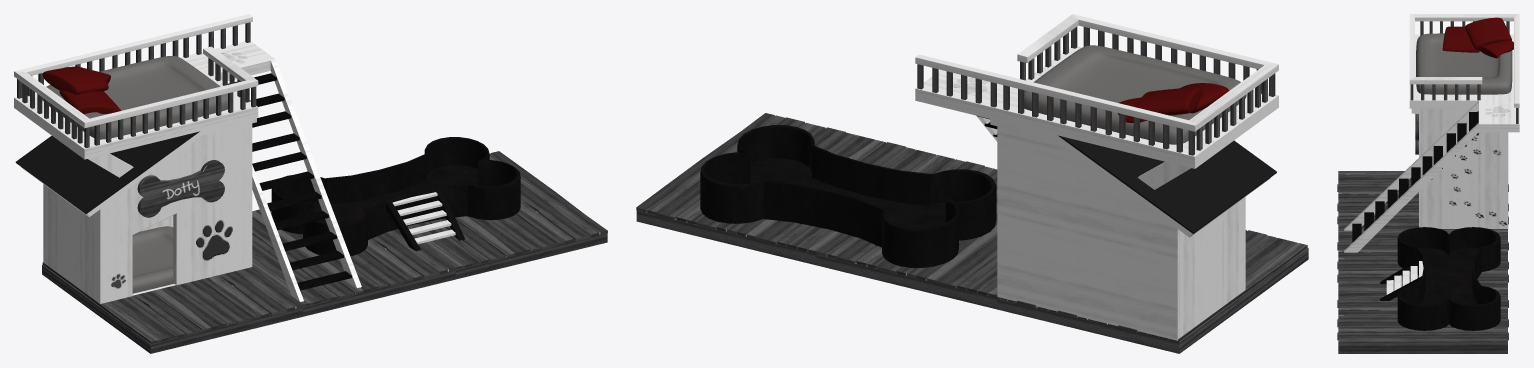
File: producto3.glb
The picture shows the model from 3 angles, left to right: view 1: azimuth 30°, elevation 25°; view 2: azimuth 150°, elevation 25°; view 3: azimuth 270°, elevation 25°; orthographic projection. The views are drawn at different scales.
Visible parts, largest first — view 1: pCubeShape66, pCylinder12; view 2: pCubeShape66, pCylinder12; view 3: pCubeShape66, pCylinder12.
Part boxes in pixels (x1,y1,x2,y2): pCubeShape66: [14, 14, 607, 353]; pCylinder12: [42, 55, 227, 293]; pCubeShape66: [636, 14, 1308, 353]; pCylinder12: [1024, 45, 1246, 144]; pCubeShape66: [1337, 14, 1519, 353]; pCylinder12: [1416, 17, 1513, 94].
Size of the model in its own units: 266 by 111 by 112.
2 materials, 2 textured.
